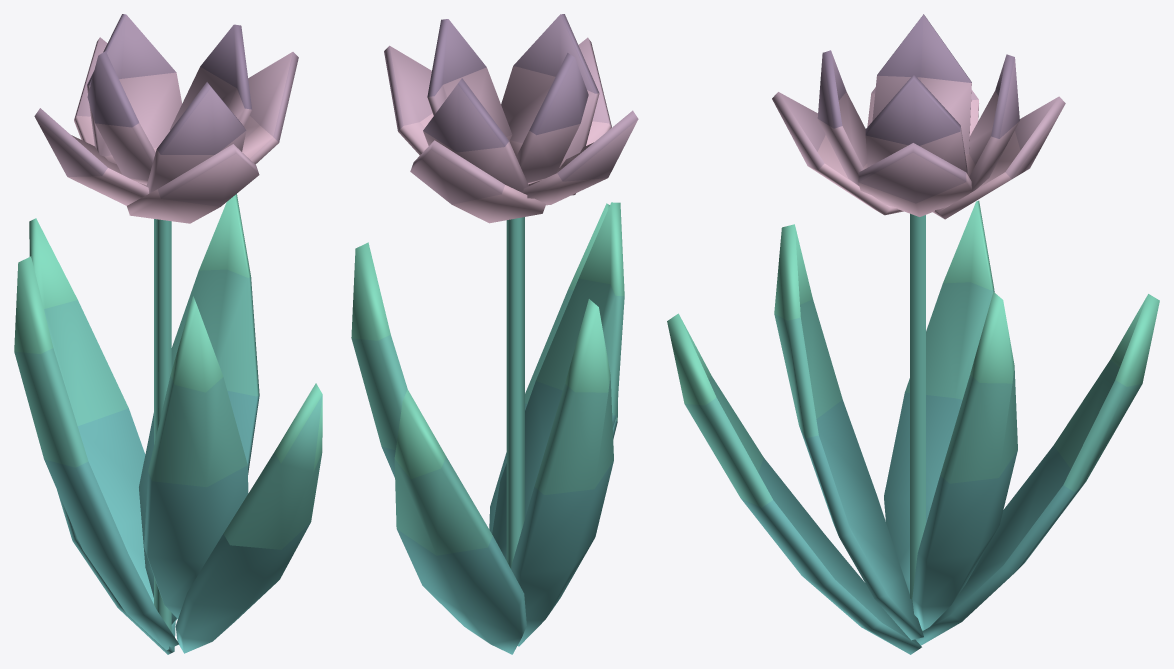
Rendered from liliy_purple.glb.
The picture shows the model from 3 angles, left to right: view 1: azimuth 30°, elevation 25°; view 2: azimuth 150°, elevation 25°; view 3: azimuth 270°, elevation 25°; orthographic projection. The views are drawn at different scales.
Parts seen in each view (by area): view 1: Liliy_Purple.001; view 2: Liliy_Purple.001; view 3: Liliy_Purple.001.
Boxes of the visible parts, left/top/right/bottom form: Liliy_Purple.001: left=14, top=14, right=322, bottom=654; Liliy_Purple.001: left=351, top=14, right=638, bottom=654; Liliy_Purple.001: left=667, top=14, right=1159, bottom=654.
Size of the model in its own units: 0.2341 by 0.5322 by 0.3926.
